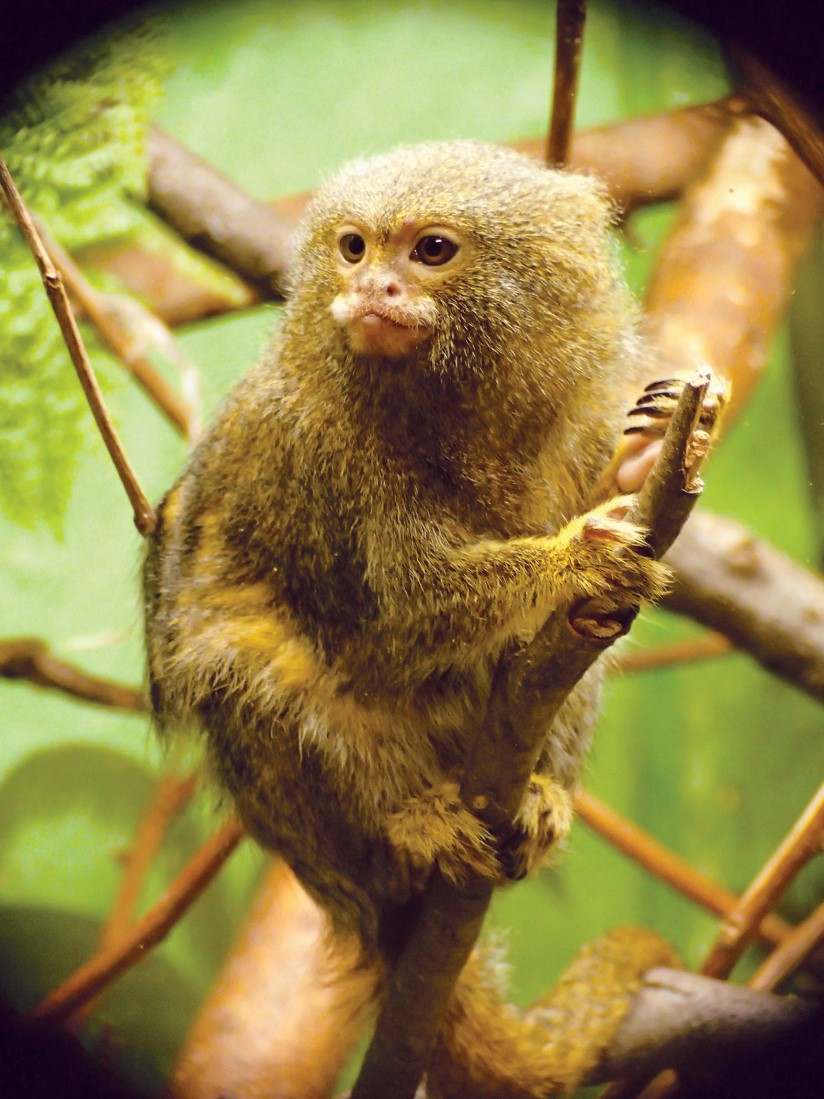PygmyMarmoset: (132, 152, 710, 891)
